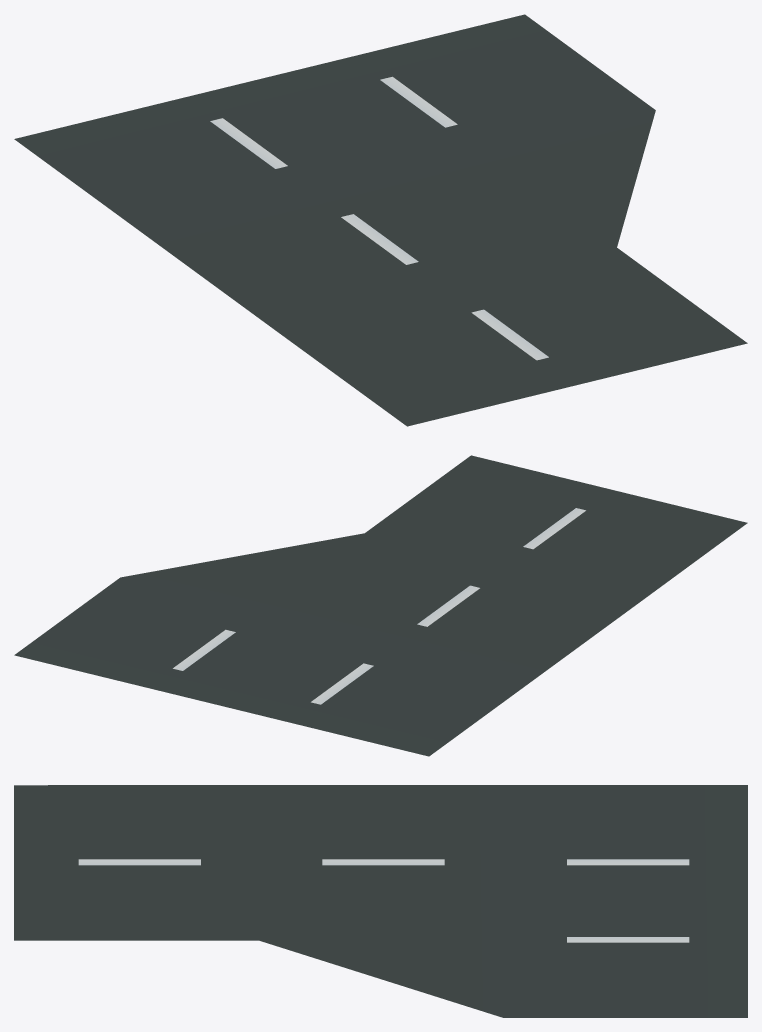
Rendered from Road_2_301.fbx.
3 views of the same model, one above another, from view 1: azimuth 30°, elevation 25°; view 2: azimuth 150°, elevation 25°; view 3: azimuth 270°, elevation 25° (orthographic). The views are drawn at different scales.
Parts seen in each view (by area): view 1: Road_2_301; view 2: Road_2_301; view 3: Road_2_301.
Part boxes in pixels (left/top/right/bottom): Road_2_301: left=14, top=14, right=747, bottom=426; Road_2_301: left=14, top=455, right=747, bottom=756; Road_2_301: left=14, top=785, right=747, bottom=1017.
Size of the model in its own units: 1352 by 1.66 by 1800.
